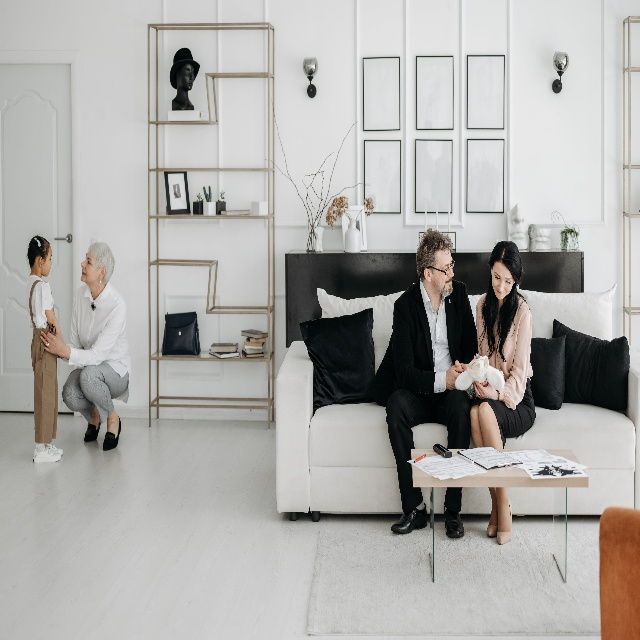Gafas: (444, 261, 455, 273), (50, 323, 56, 337)
Sin_guantes: (39, 329, 64, 359), (444, 365, 464, 390), (473, 380, 497, 399)
